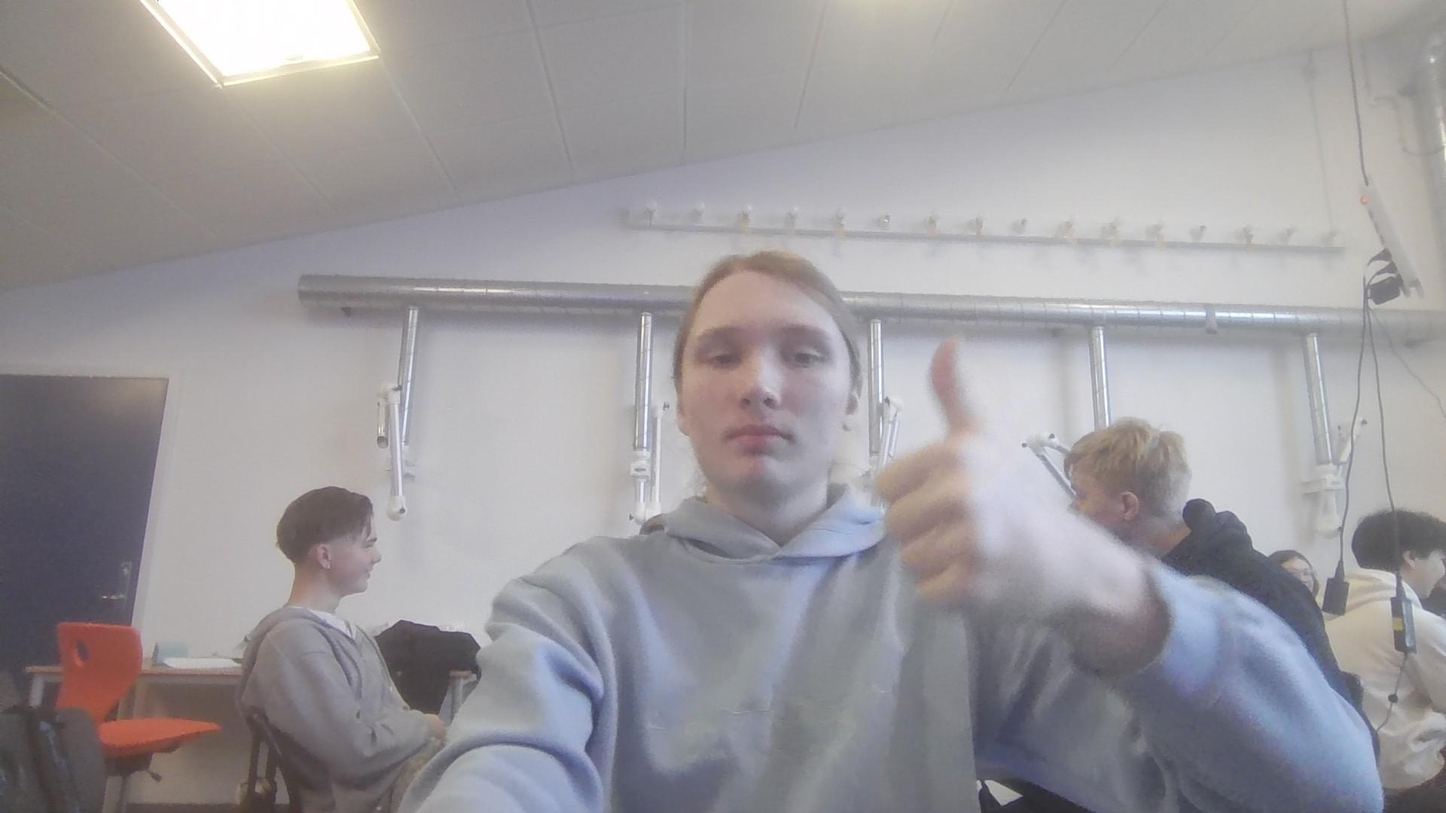thumbs up: (870, 328, 1087, 633)
